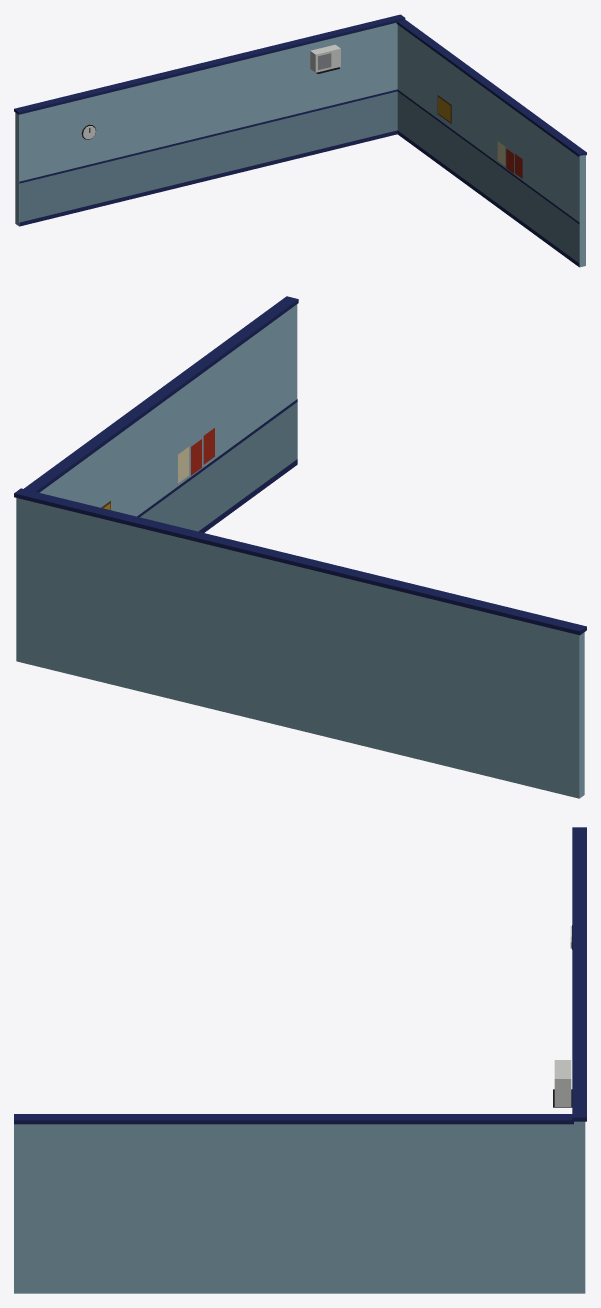
Rendered from building_room_bank.c6fa703e6cb5.glb.
3 views of the same model, one above another, from view 1: azimuth 30°, elevation 25°; view 2: azimuth 150°, elevation 25°; view 3: azimuth 270°, elevation 25° (orthographic). The views are drawn at different scales.
Parts seen in each view (by area): view 1: body; view 2: body; view 3: body.
Part boxes in pixels (box(x1,y1,x2,y2)): body: box(14, 14, 586, 267); body: box(14, 296, 586, 798); body: box(14, 827, 586, 1293).
Size of the model in its own units: 12.26 by 3.48 by 10.23.
